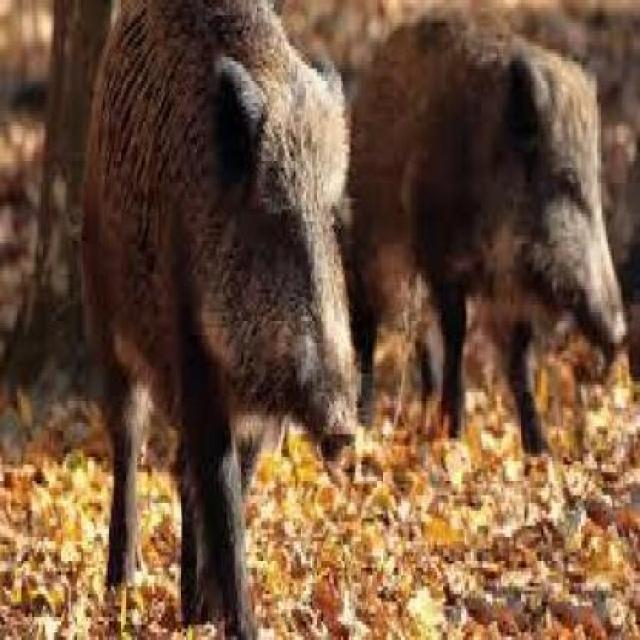wildboar: (76, 0, 367, 640), (330, 8, 628, 492)
